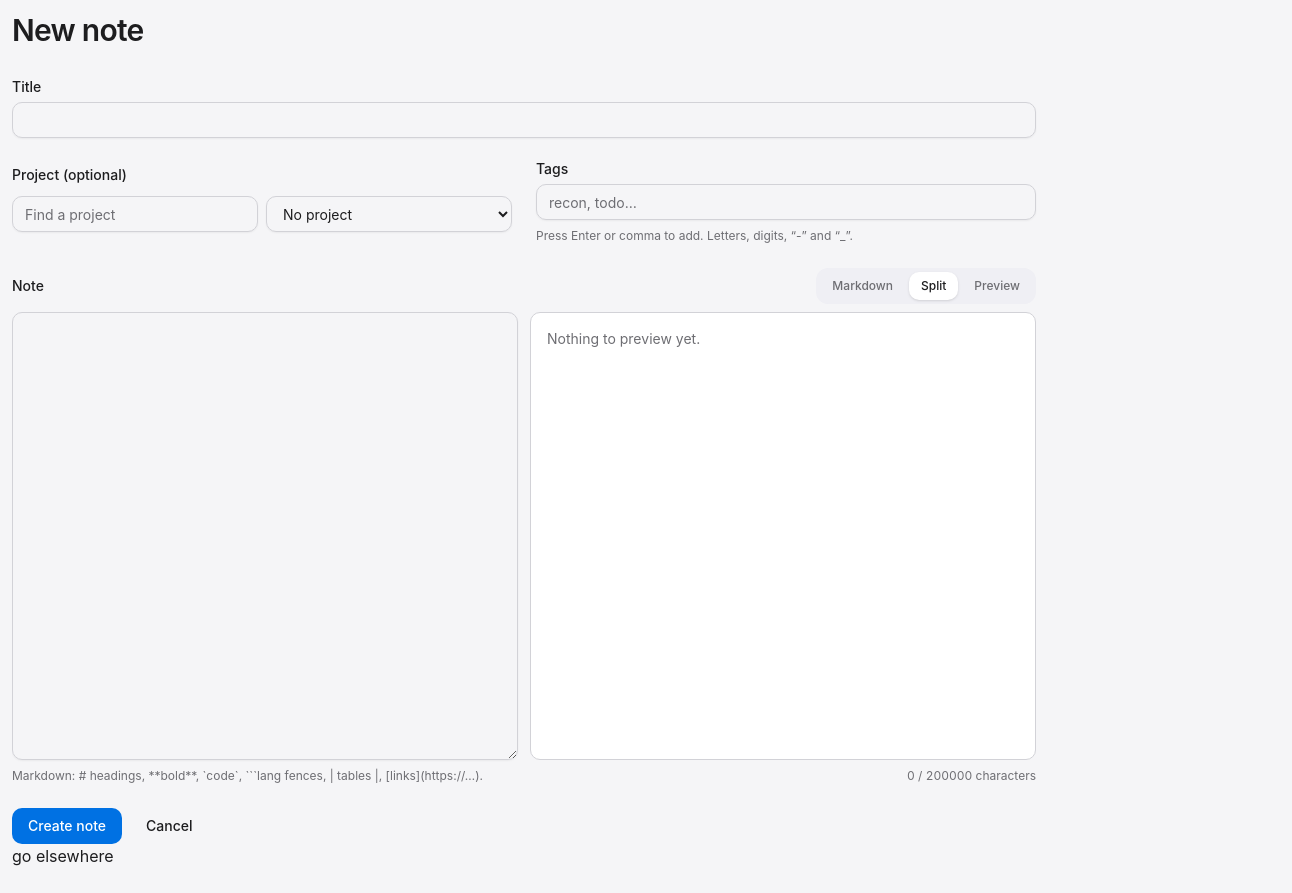
Test: note editor › keeps every edit after a server validation error
Type "Keep me" into the field labelled "Title" at (524, 120), box [12,102,1036,138]
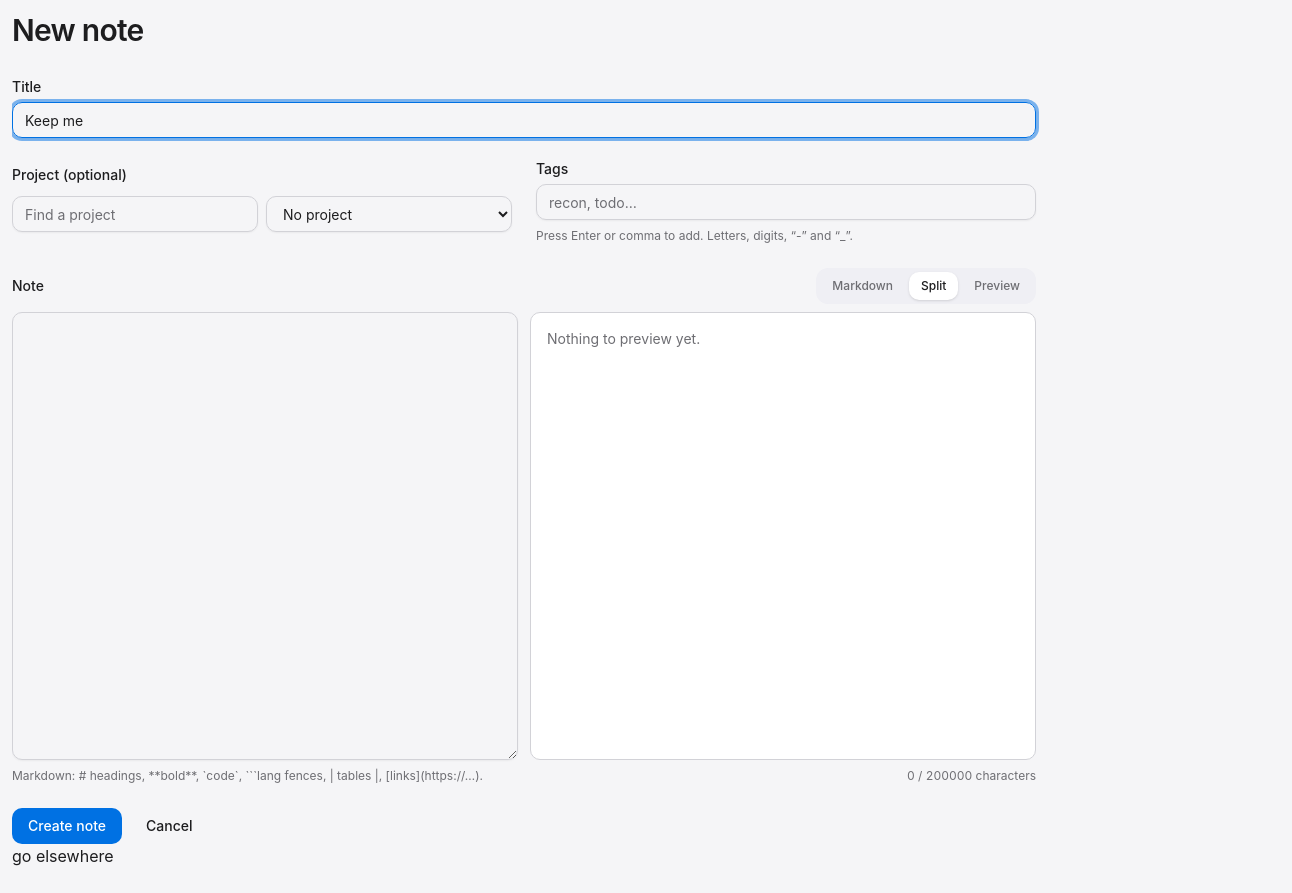
Type "long text" into the text box labelled "Note" at (265, 536), box [12,312,518,760]
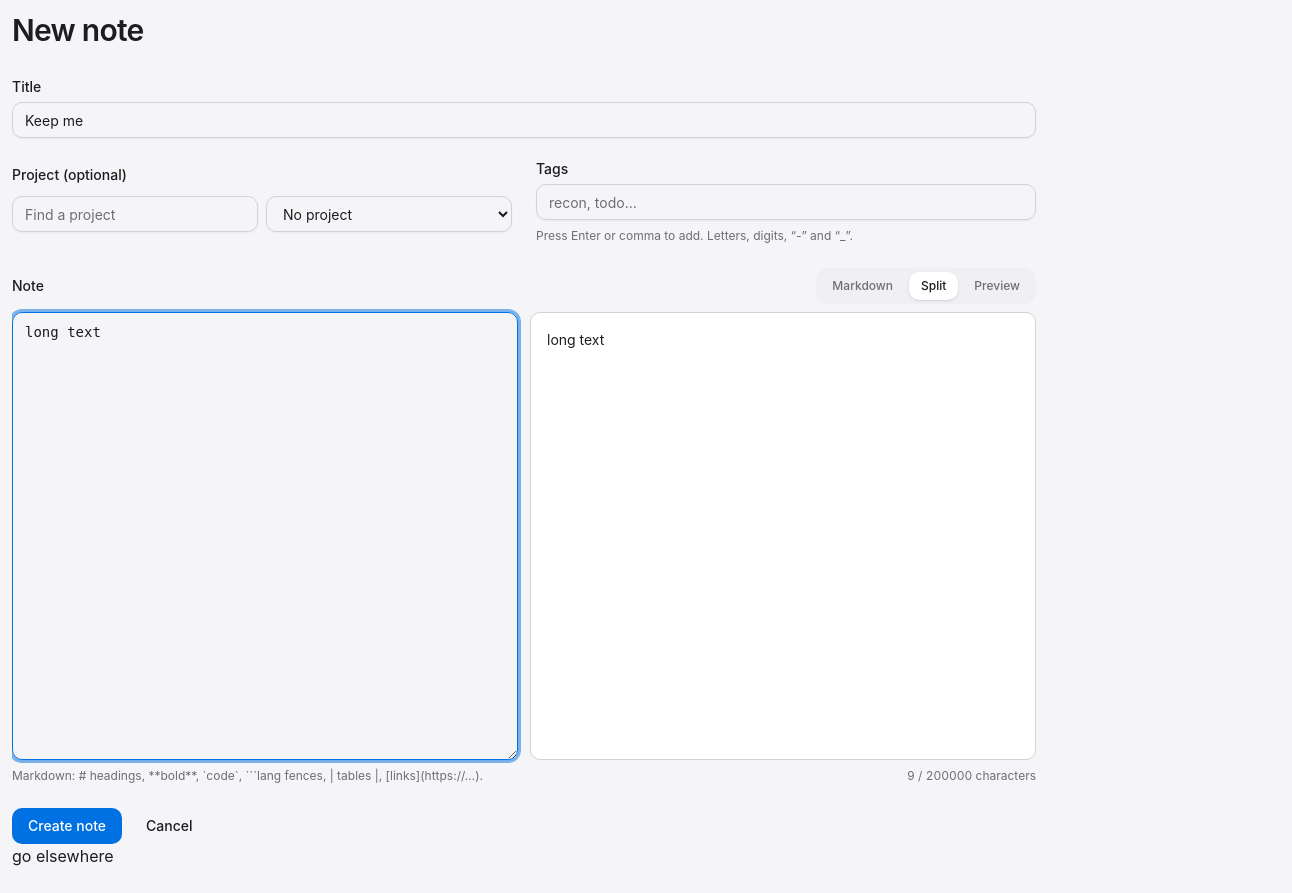
Click the button "Create note" at (67, 826), box [12,808,122,844]
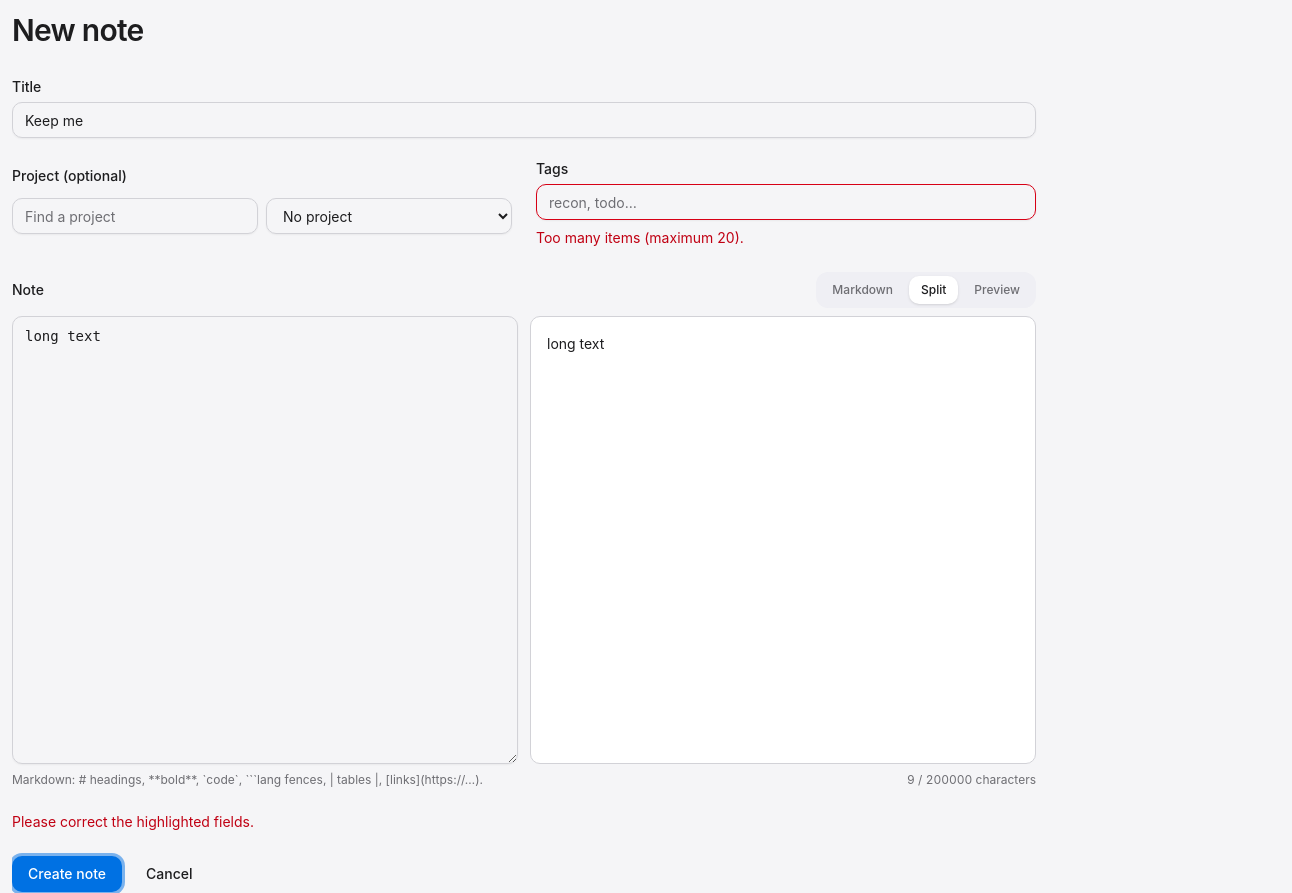
expect the text "Too many items (maximum 20)." is shown: met, box [536,229,744,246]
